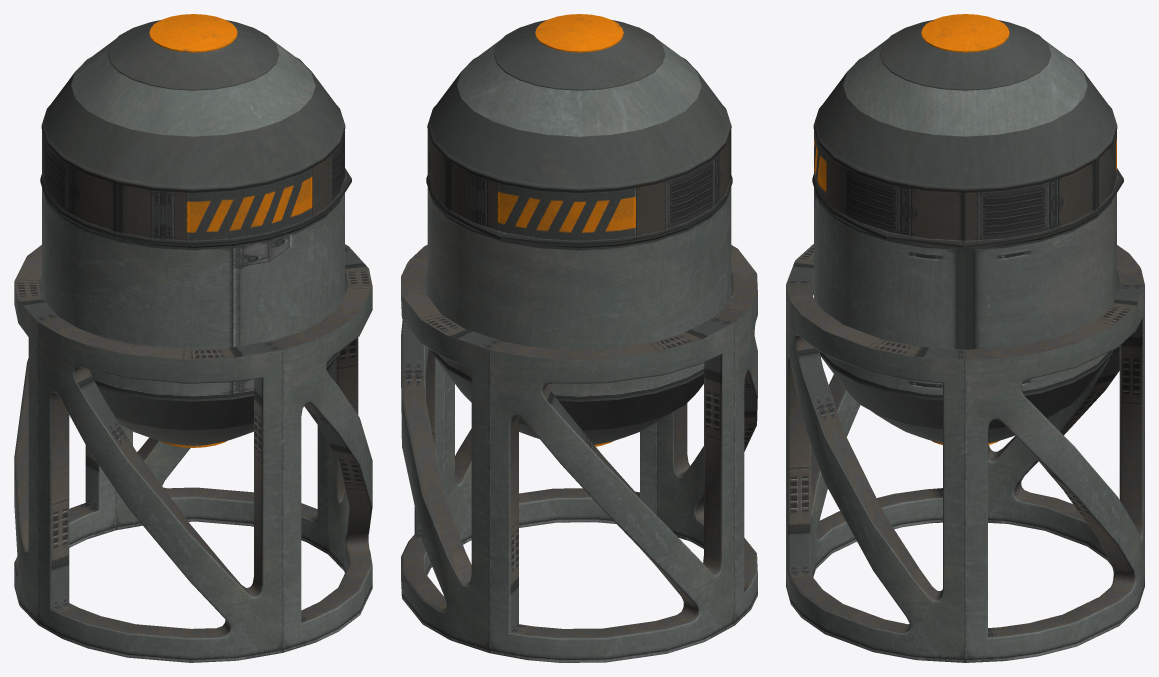
File: OilTank_ring.FBX
The picture shows the model from 3 angles, left to right: view 1: azimuth 30°, elevation 25°; view 2: azimuth 150°, elevation 25°; view 3: azimuth 270°, elevation 25°; orthographic projection.
Visible parts, largest first — view 1: OilTank_ring; view 2: OilTank_ring; view 3: OilTank_ring.
Part boxes in pixels (bbox=[...]): OilTank_ring: bbox=[14, 14, 372, 662]; OilTank_ring: bbox=[401, 14, 757, 662]; OilTank_ring: bbox=[786, 14, 1144, 662].
Bounding box in the file's own units: 5.46 × 5.46 × 9.41.
